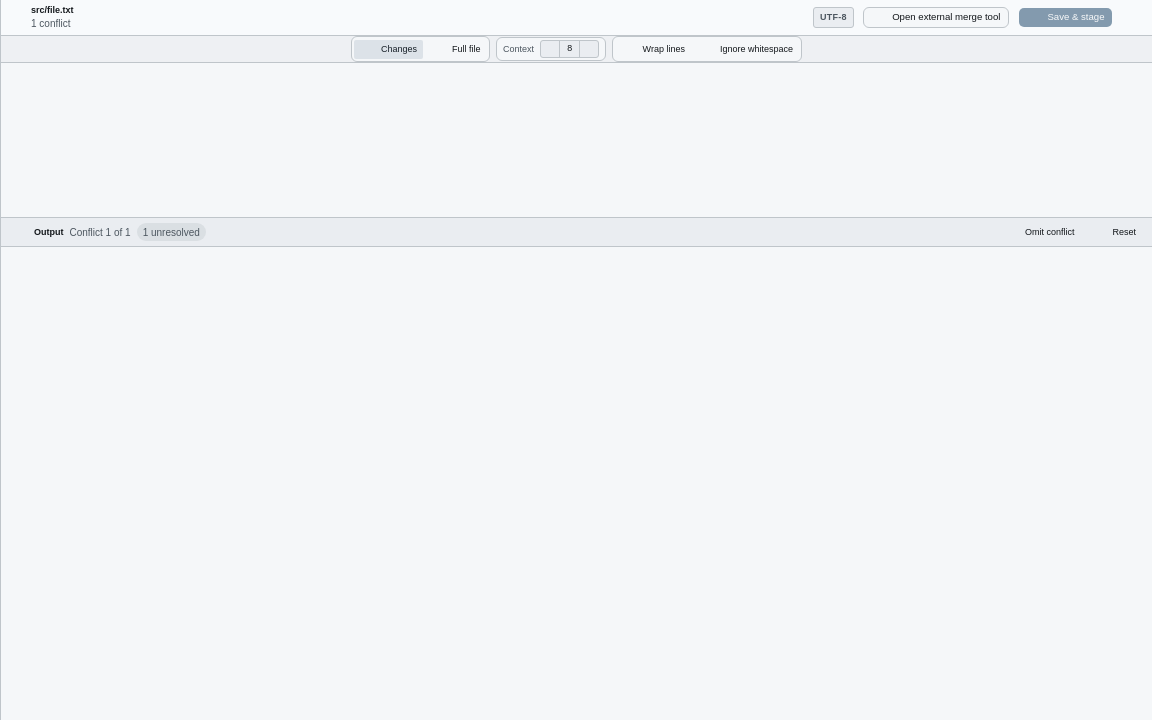
ConflictResolutionView safety states › keeps the draft open when an external tool reports success but leaves the file unmerged
This screenshot has width=1152, height=720.
What coordinates should you click on to do the following:
click the button "Open external merge tool"
I would click on:
 (936, 18)
Its box is [863,7,1009,28].
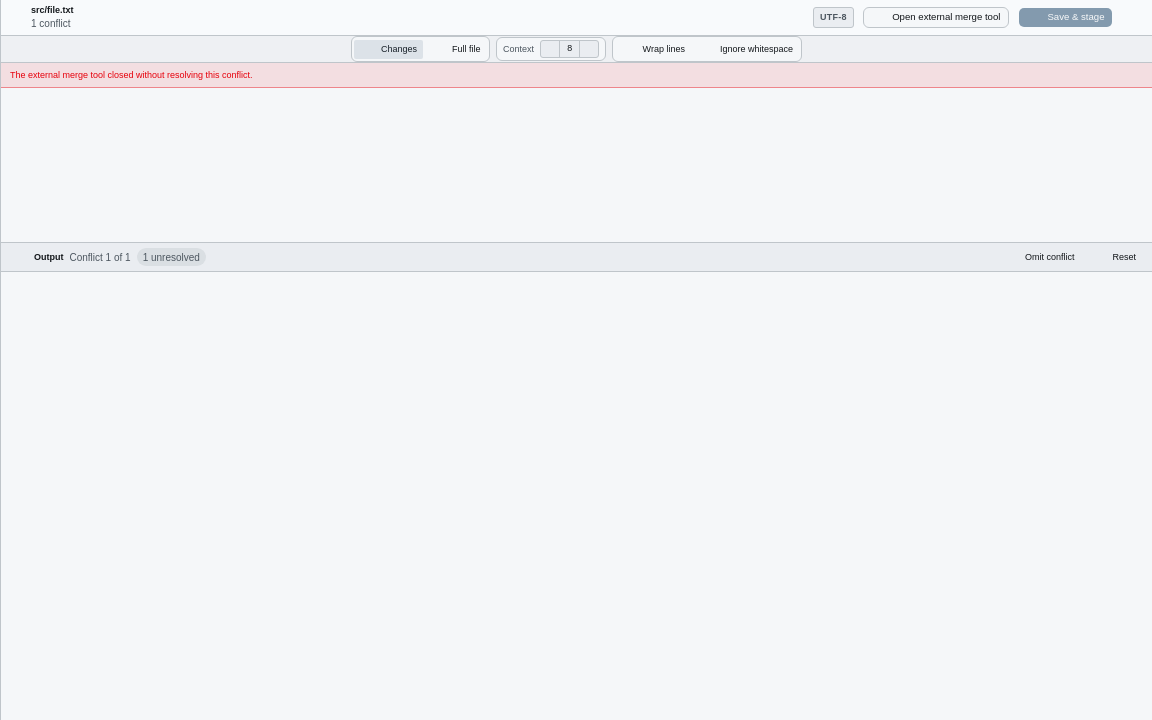
Expected: the text "closed without resolving this conflict" is shown, [10,70,253,80]
